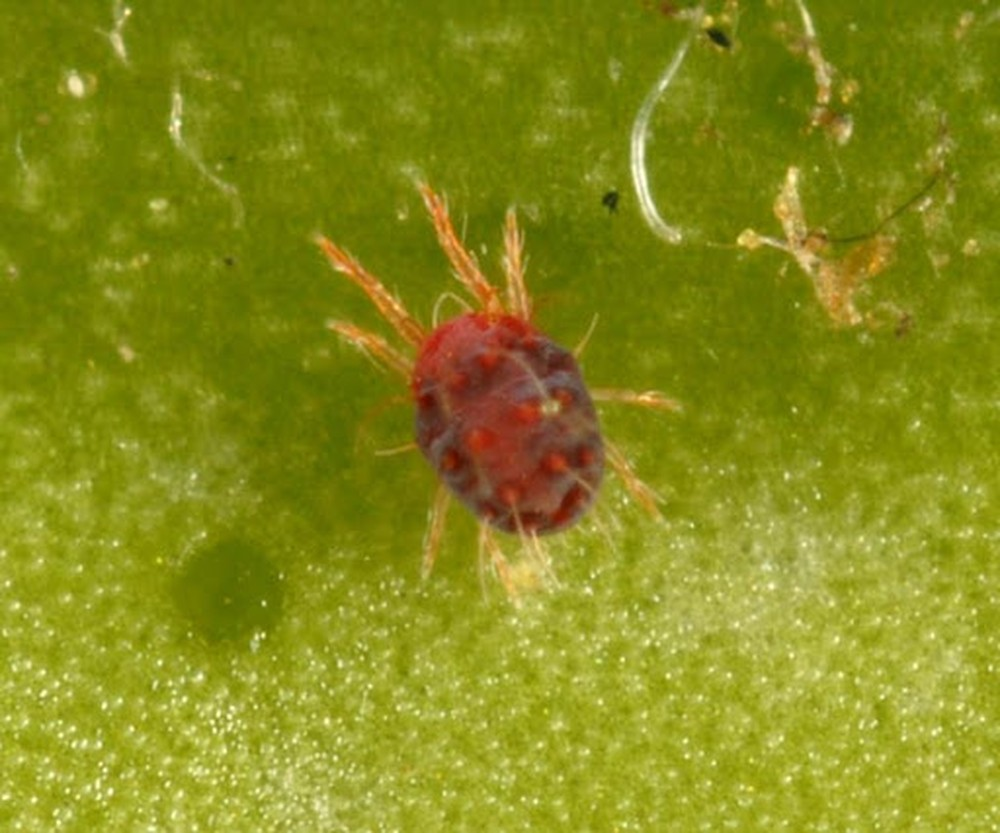Aracnido Rojo: (313, 176, 693, 624)
